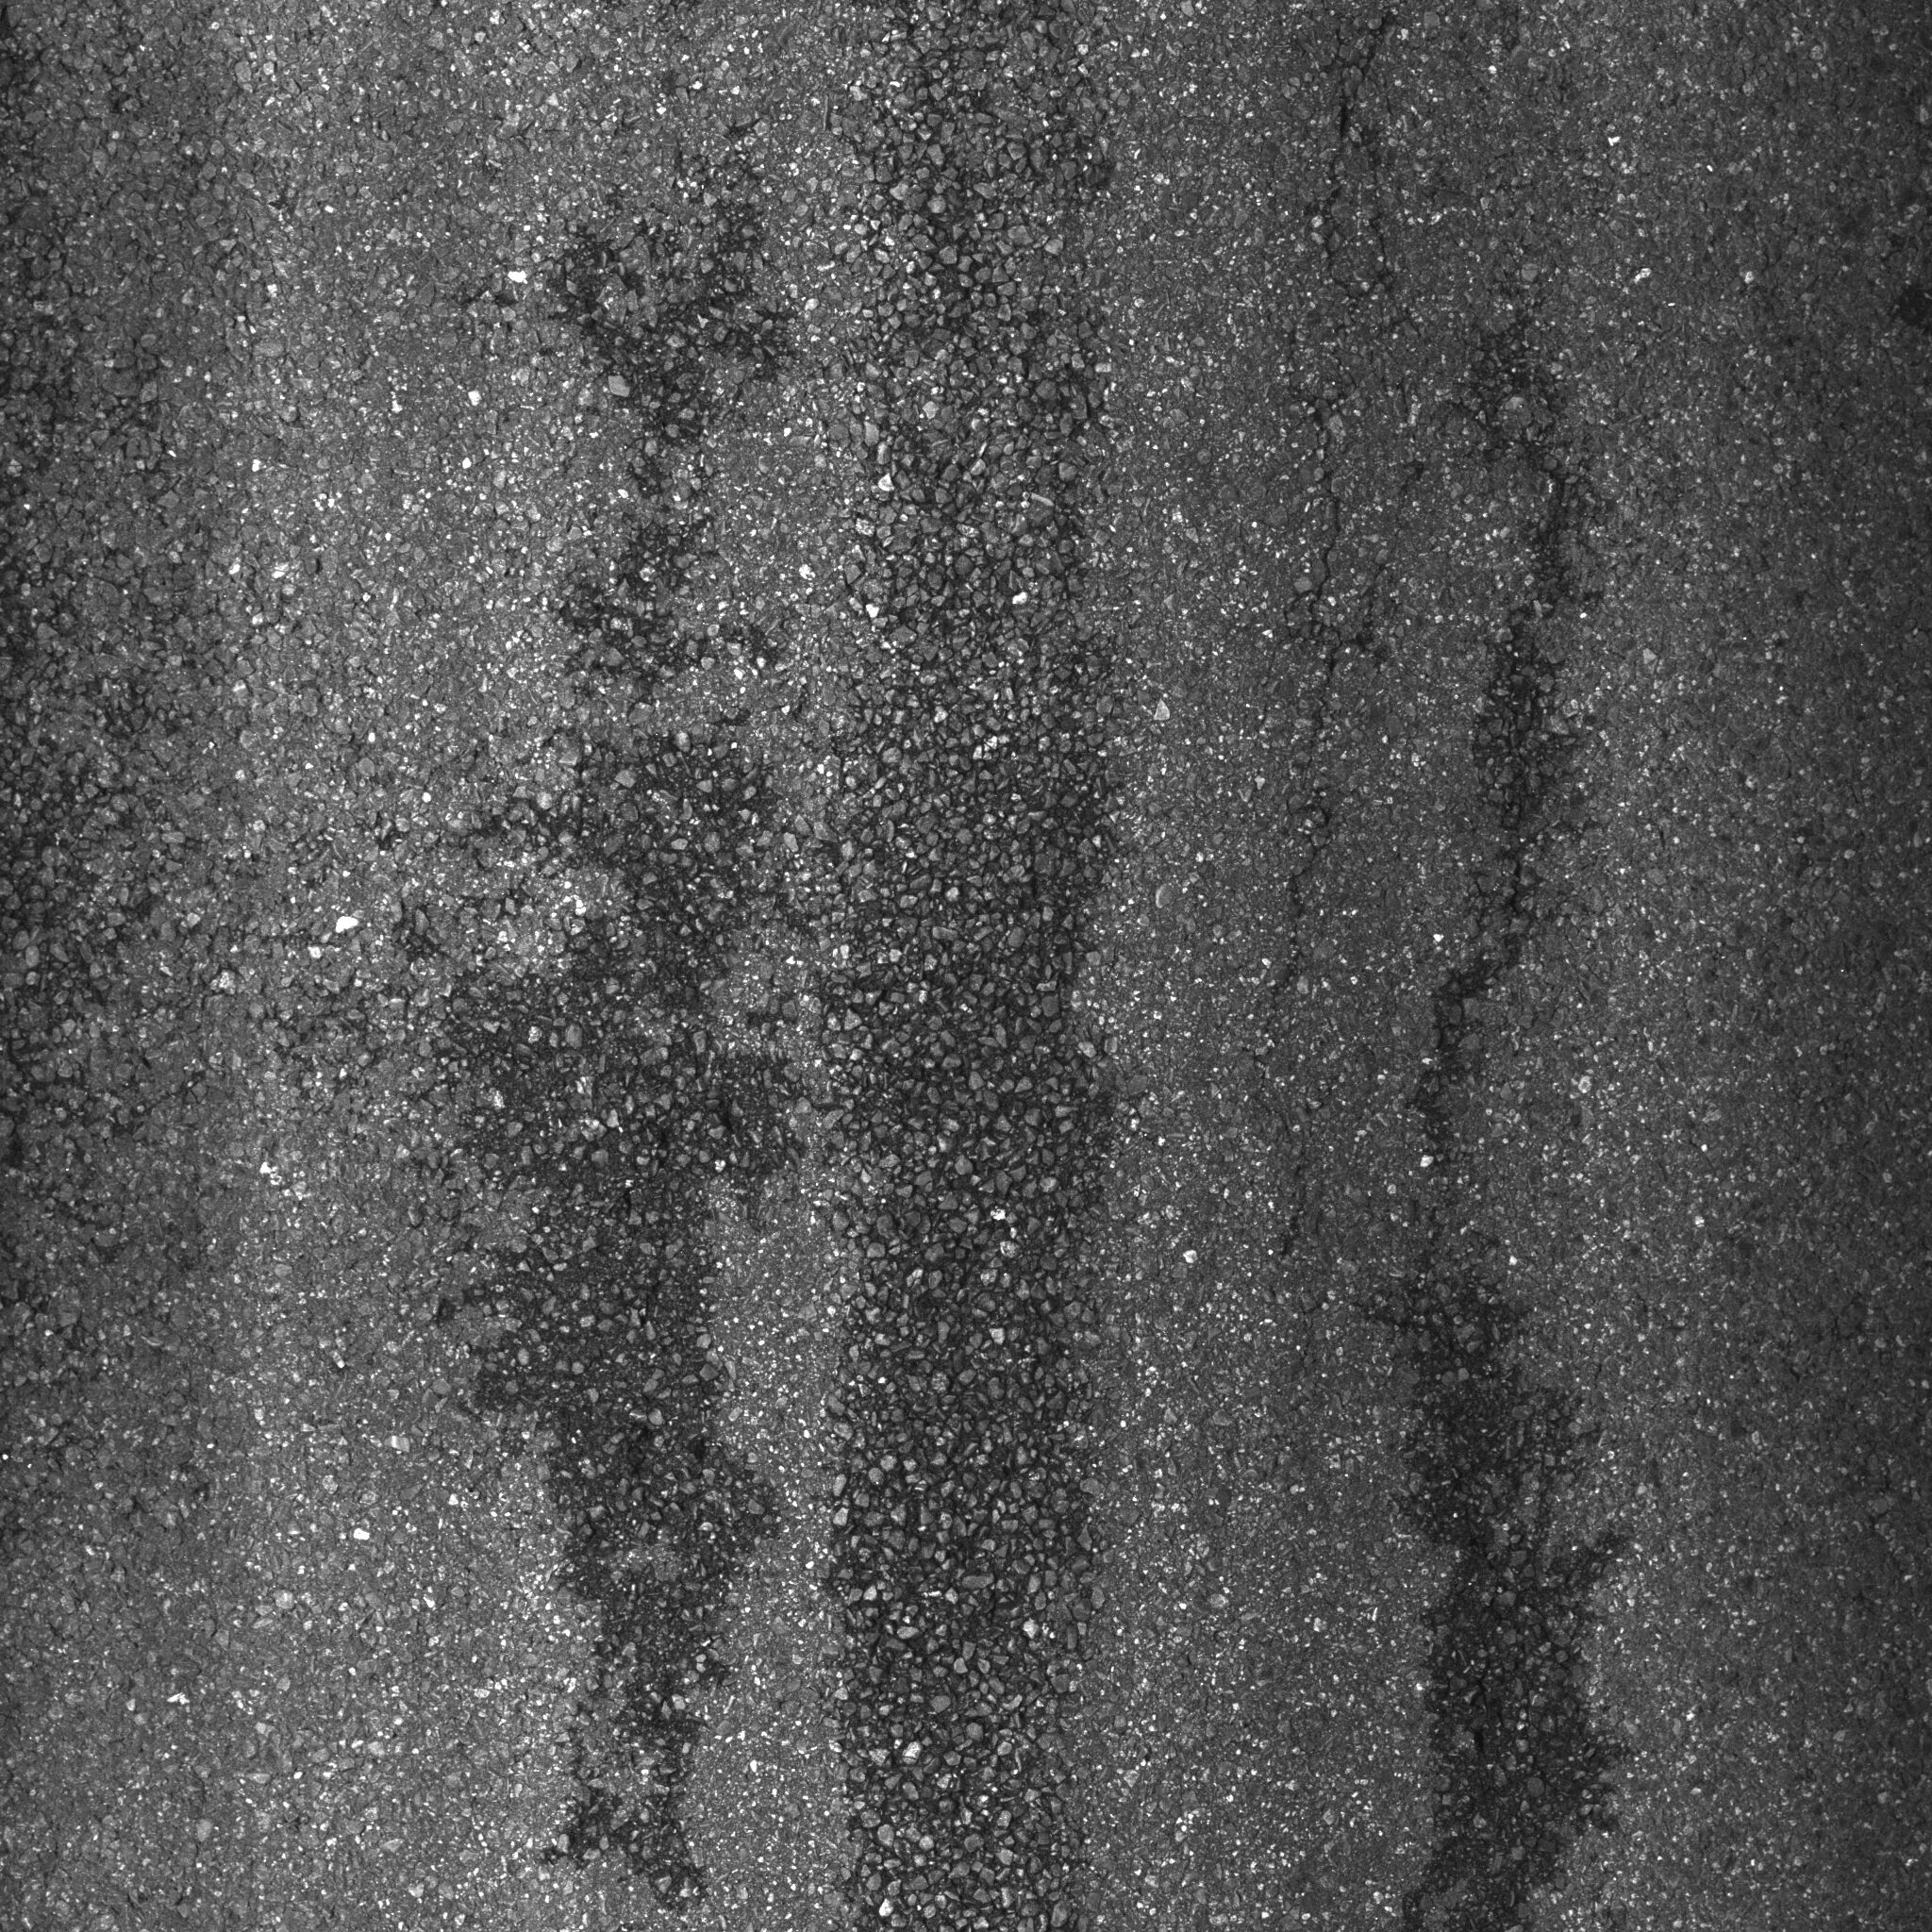longitudinal: (1410, 352, 1582, 1895), (1228, 4, 1368, 1322)
